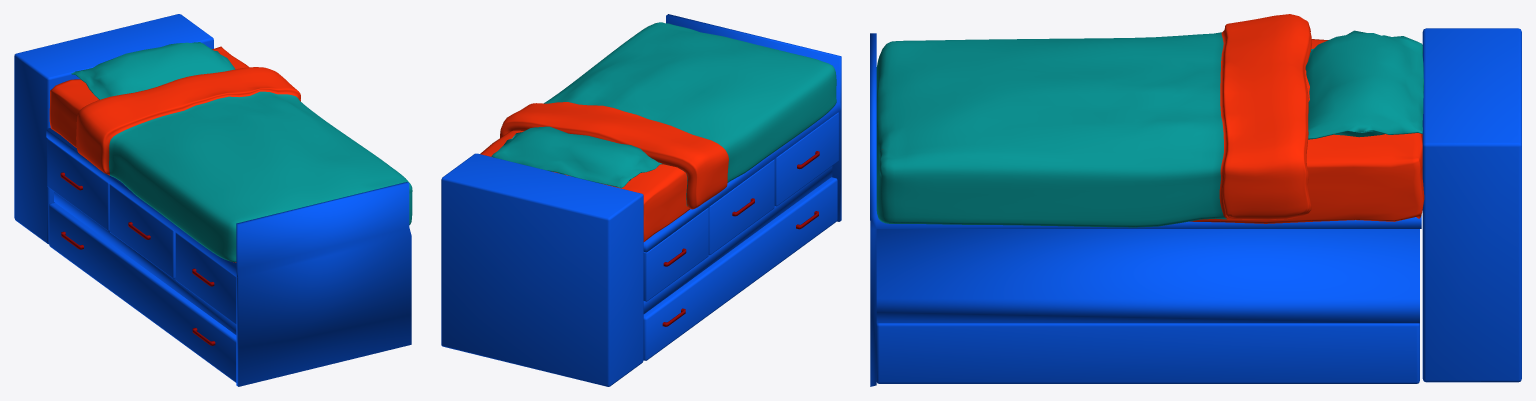
Rendered from m_bed.FBX.
The picture shows the model from 3 angles, left to right: view 1: azimuth 30°, elevation 25°; view 2: azimuth 150°, elevation 25°; view 3: azimuth 270°, elevation 25°; orthographic projection. The views are drawn at different scales.
Visible parts, largest first — view 1: bed; view 2: bed; view 3: bed.
Part boxes in pixels (x1,y1,x2,y2): bed: (14, 14, 412, 386); bed: (441, 14, 841, 386); bed: (870, 14, 1521, 386).
Bounding box in the file's own units: 98.34 × 86.38 × 192.
